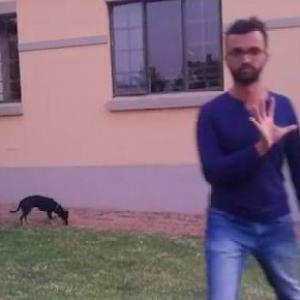follow_hand: (243, 88, 299, 151)
